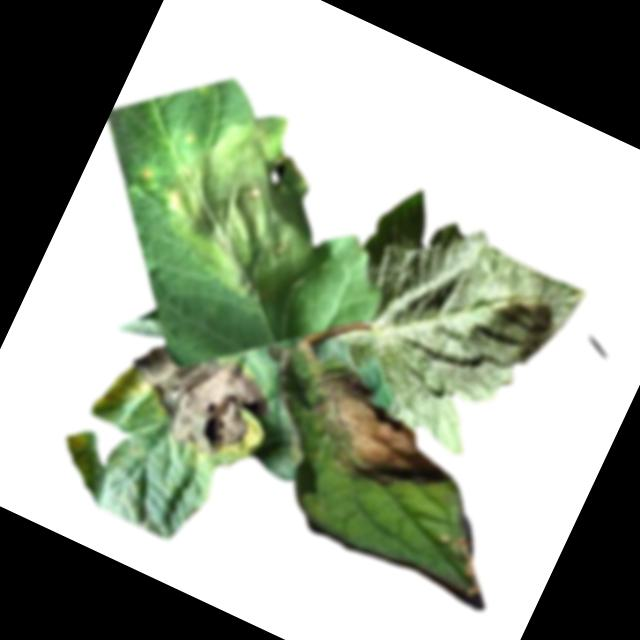Late_blight: (138, 85, 367, 319), (282, 358, 476, 517), (107, 321, 285, 476), (423, 511, 506, 601)
healthy: (294, 173, 598, 479)
